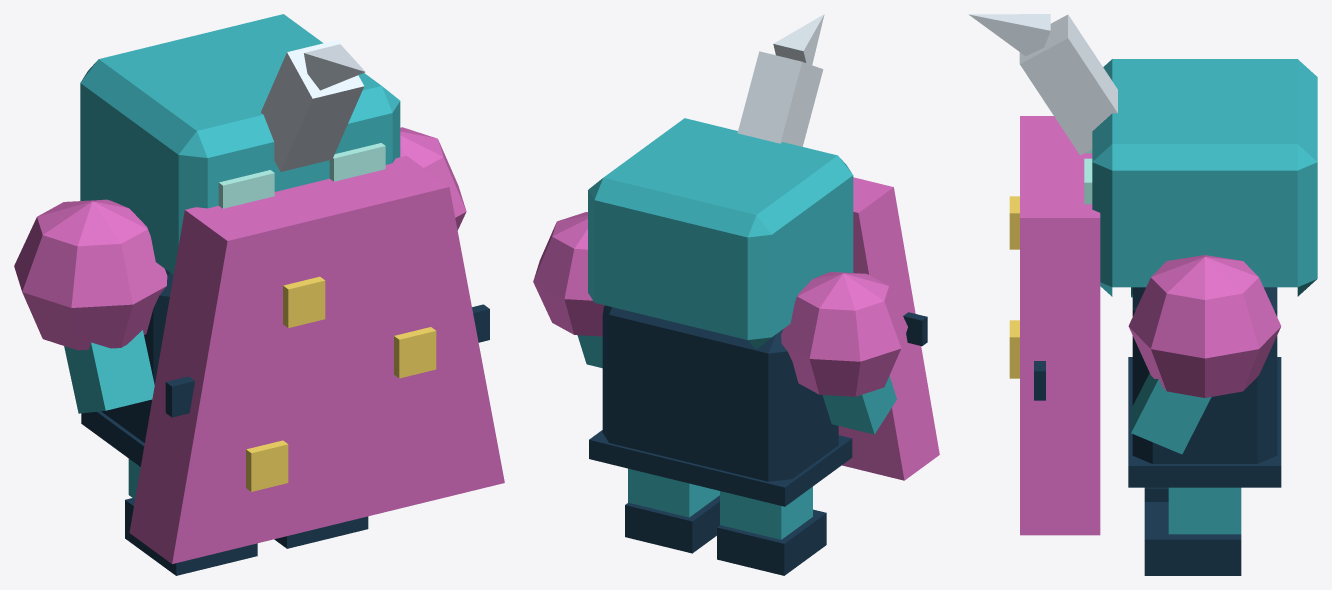
The model's file is brute_r12.glb.
The picture shows the model from 3 angles, left to right: view 1: azimuth 30°, elevation 25°; view 2: azimuth 150°, elevation 25°; view 3: azimuth 270°, elevation 25°; orthographic projection. The views are drawn at different scales.
Parts seen in each view (by area): view 1: brute_r12_mesh; view 2: brute_r12_mesh; view 3: brute_r12_mesh.
Boxes of the visible parts, box(x1,y1,x2,y2) form: brute_r12_mesh: box(14, 14, 504, 575); brute_r12_mesh: box(533, 14, 939, 575); brute_r12_mesh: box(968, 14, 1317, 575).
Size of the model in its own units: 1.83 by 2.2 by 1.35.
1 material, 1 textured.
